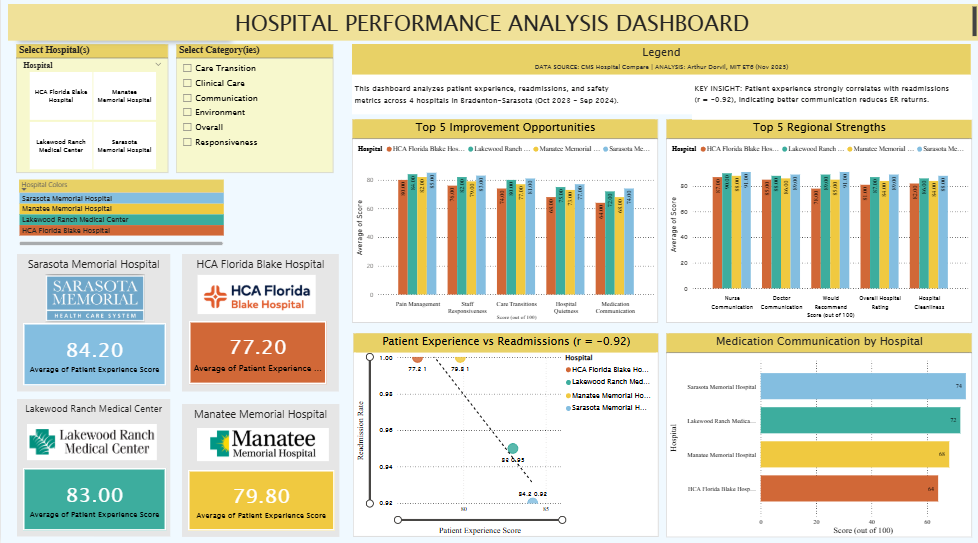

What the dashboard file says about the page in this screenshot:
{"tool":"powerbi","page":{"name":"Page 1","canvas":[1920,1080],"ordinal":0},"visuals":[{"type":"group","id":"g1","title":"Group 1","box":[356,510.3,308,270.4],"z":0,"group":"g3"},{"type":"clusteredBarChart","title":"Medication Communication by Hospital","fields":{"Category":["hospital_measures_detailed.Hospital"],"Y":["Sum(hospital_measures_detailed.Score)"]},"box":[1304.8,665.3,600.8,400.9],"z":0},{"type":"textbox","box":[31.3,795.3,301.3,270],"z":0,"group":"g5"},{"type":"textbox","box":[356,510.3,308,270.4],"z":500,"group":"g1"},{"type":"textbox","box":[31.3,510.5,301.3,270],"z":500,"group":"g2"},{"type":"textbox","box":[355.7,804.5,308.7,260.8],"z":500,"group":"g4"},{"type":"clusteredColumnChart","title":"Top 5 Regional Strengths","fields":{"Category":["hospital_measures_detailed.Measure_Name"],"Y":["Avg(hospital_measures_detailed.Score)"],"Series":["hospital_measures_detailed.Hospital"]},"box":[1304.8,246,600.8,399.9],"z":1000},{"type":"card","title":"Sarasota Memorial Hospital","fields":{"Values":["Avg(hospital_summary.Patient_Experience_Score)"]},"box":[43.7,930.3,281.1,123.5],"z":1000,"group":"g5"},{"type":"card","title":"Sarasota Memorial Hospital","fields":{"Values":["Avg(hospital_summary.Patient_Experience_Score)"]},"box":[43.7,645.5,281.1,123.5],"z":1500,"group":"g2"},{"type":"card","title":"Sarasota Memorial Hospital","fields":{"Values":["Avg(hospital_summary.Patient_Experience_Score)"]},"box":[368.4,934.9,287.9,119.3],"z":1500,"group":"g4"},{"type":"clusteredColumnChart","title":"Top 5 Improvement Opportunities","fields":{"Category":["hospital_measures_detailed.Measure_Name"],"Y":["Avg(hospital_measures_detailed.Score)"],"Series":["hospital_measures_detailed.Hospital"]},"box":[690.2,246,600.8,399.9],"z":2000},{"type":"card","title":"HCA Florida Blake Hospital","fields":{"Values":["Avg(hospital_summary.Patient_Experience_Score)"]},"box":[370,641.6,270.3,123.7],"z":3000,"group":"g3"},{"type":"scatterChart","title":"Patient Experience vs Readmissions (r = -0.92)","fields":{"X":["hospital_summary.Patient_Experience_Score"],"Y":["hospital_summary.Readmission_Rate"],"Series":["hospital_summary.Hospital"]},"box":[691.1,665.3,599.9,399.9],"z":3000},{"type":"slicer","title":"Select Hospital(s)","fields":{"Values":["hospital_summary.Hospital"]},"box":[29.5,98.6,299.5,253.4],"z":4000},{"type":"slicer","title":"Select Category(ies)","fields":{"Values":["hospital_measures_detailed.Measure_Category"]},"box":[342.8,98.6,308.7,253.4],"z":5000},{"type":"textbox","box":[29.5,47,412.8,37.8],"z":6000},{"type":"textbox","box":[13.8,20.3,1906.6,71.9],"z":7000},{"type":"group","id":"g2","title":"Group 1","box":[31.3,510.5,301.3,270],"z":8000},{"type":"group","id":"g3","title":"Group 2","box":[356,458,308,323],"z":9000},{"type":"group","id":"g4","title":"Group 3","box":[355.7,804.5,308.7,260.8],"z":10000},{"type":"textbox","title":"Legend","box":[690.2,98.6,1215.5,138.2],"z":11000},{"type":"group","id":"g5","title":"Group 4","box":[31.3,795.3,301.3,270],"z":12000},{"type":"image","box":[51.6,844.1,255.3,71],"z":12000,"group":"g5"},{"type":"tableEx","fields":{"Values":["hospital_summary.Hospital"]},"box":[29,360,413,140],"z":13000},{"type":"image","box":[381.9,458,241.8,265.8],"z":13000,"group":"g3"},{"type":"image","box":[81.5,521.1,205.5,154.8],"z":13000,"group":"g2"},{"type":"image","box":[384.3,851.5,258.9,64.5],"z":13003,"group":"g4"},{"type":"textbox","box":[1356,168,550,78],"z":14001}]}

Visuals, with their boxes in screenshot pixels (x1, y1, x2, y2), scaled from the page's 1920x1080 canvas onto the 978x543 screenshot:
"Group 1" group: l=181, t=257, r=338, b=393
"Medication Communication by Hospital" clusteredBarChart: l=665, t=334, r=971, b=536
textbox: l=16, t=400, r=169, b=536
textbox: l=181, t=257, r=338, b=393
textbox: l=16, t=257, r=169, b=392
textbox: l=181, t=404, r=338, b=536
"Top 5 Regional Strengths" clusteredColumnChart: l=665, t=124, r=971, b=325
"Sarasota Memorial Hospital" card: l=22, t=468, r=165, b=530
"Sarasota Memorial Hospital" card: l=22, t=325, r=165, b=387
"Sarasota Memorial Hospital" card: l=188, t=470, r=334, b=530
"Top 5 Improvement Opportunities" clusteredColumnChart: l=352, t=124, r=658, b=325
"HCA Florida Blake Hospital" card: l=188, t=323, r=326, b=385
"Patient Experience vs Readmissions (r = -0.92)" scatterChart: l=352, t=334, r=658, b=536
"Select Hospital(s)" slicer: l=15, t=50, r=168, b=177
"Select Category(ies)" slicer: l=175, t=50, r=332, b=177
textbox: l=15, t=24, r=225, b=43
textbox: l=7, t=10, r=977, b=46
"Group 1" group: l=16, t=257, r=169, b=392
"Group 2" group: l=181, t=230, r=338, b=393
"Group 3" group: l=181, t=404, r=338, b=536
"Legend" textbox: l=352, t=50, r=971, b=119
"Group 4" group: l=16, t=400, r=169, b=536
image: l=26, t=424, r=156, b=460
tableEx - hospital_summary.Hospital: l=15, t=181, r=225, b=251
image: l=195, t=230, r=318, b=364
image: l=42, t=262, r=146, b=340
image: l=196, t=428, r=328, b=461
textbox: l=691, t=84, r=971, b=124
